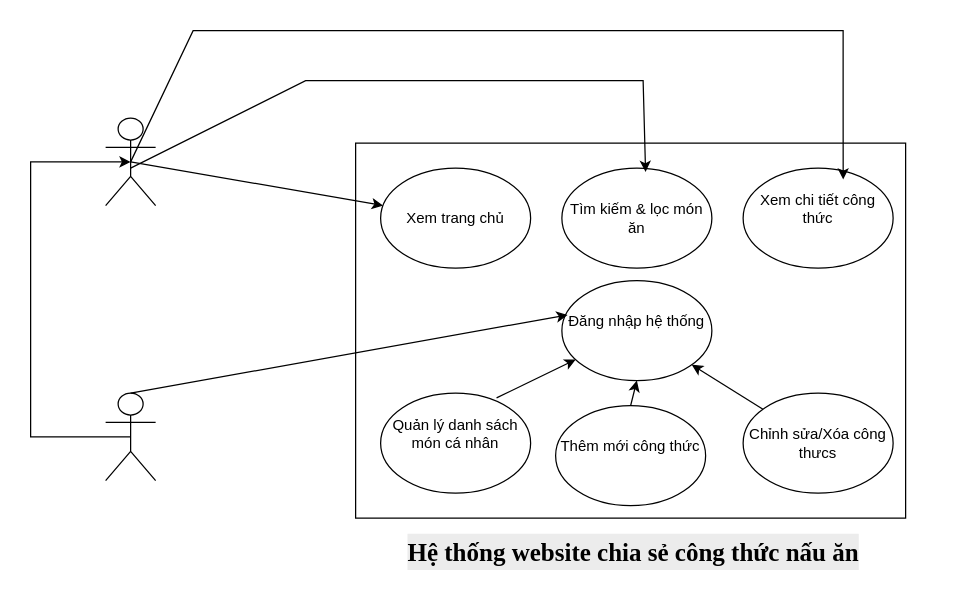
Image size: 953x615. Some labels were removed from this diagram. The shapes that lost their labels are listed below. From the top down, each one's box as (x1, y1, x2, y2) in pixels, then its label:
(104, 117, 156, 206): Khách vãng lai
(104, 392, 156, 481): Thành viên
